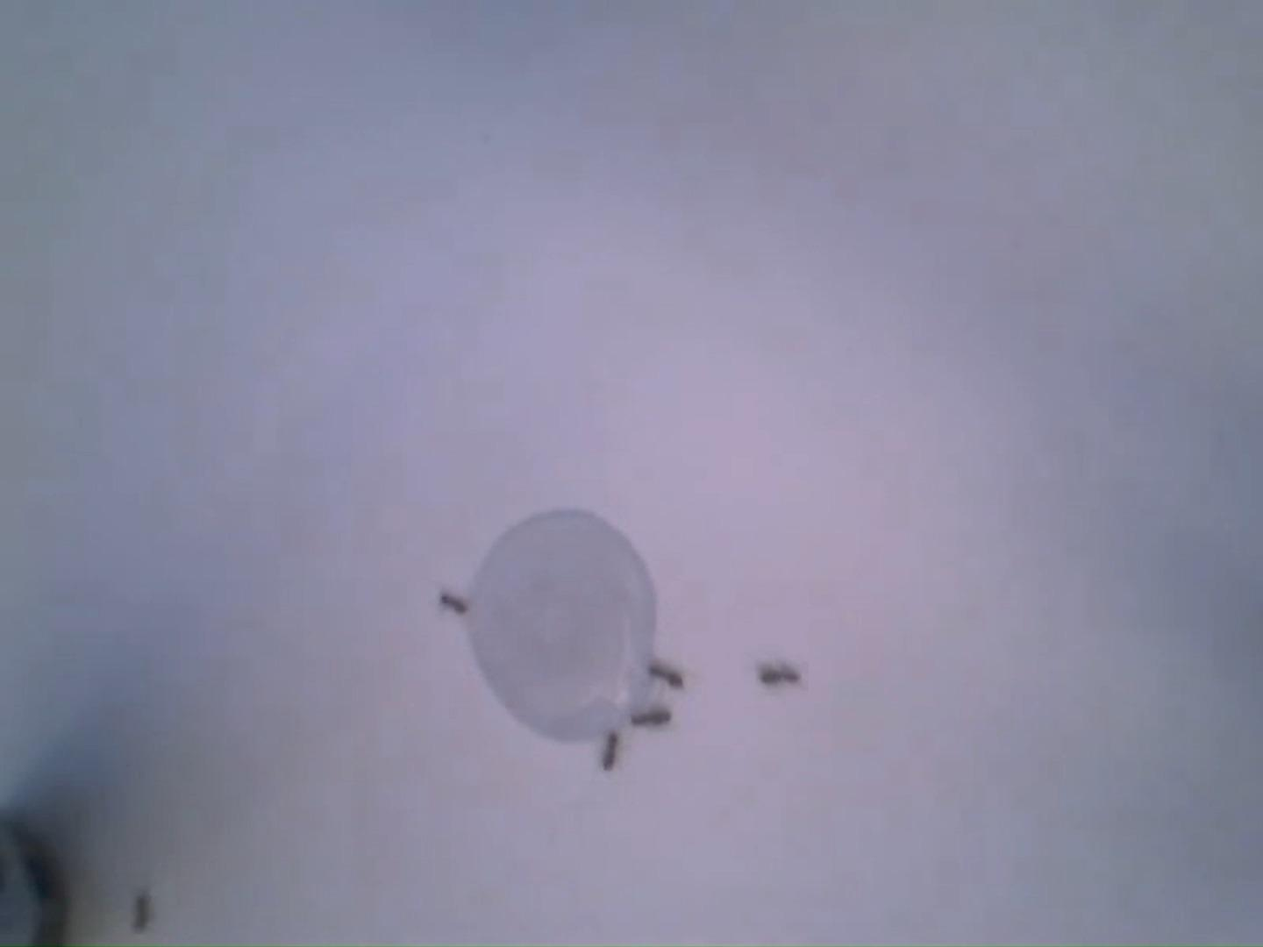Ant: (649, 660, 687, 688), (762, 662, 802, 686), (635, 704, 674, 727), (135, 892, 155, 932), (603, 731, 622, 771), (441, 591, 469, 614)
